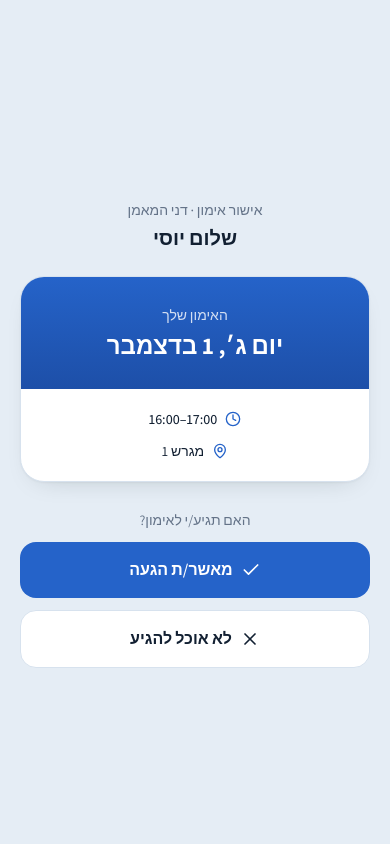
Test: ConfirmPage state machine › confirms and switches to the result/calendar state
Click the button "מאשר/ת הגעה".
click(195, 570)  # box [20,542,370,598]
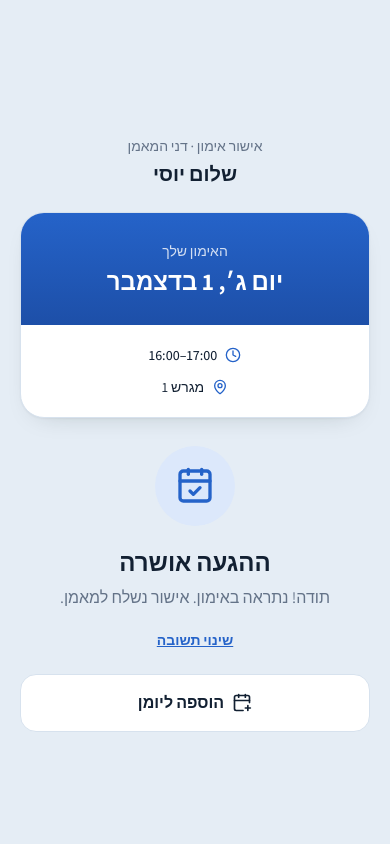
Expected: the heading "ההגעה אושרה" is shown, [119,546,271,578]
Expected: the button "הוספה ליומן" is shown, [20,674,370,732]
